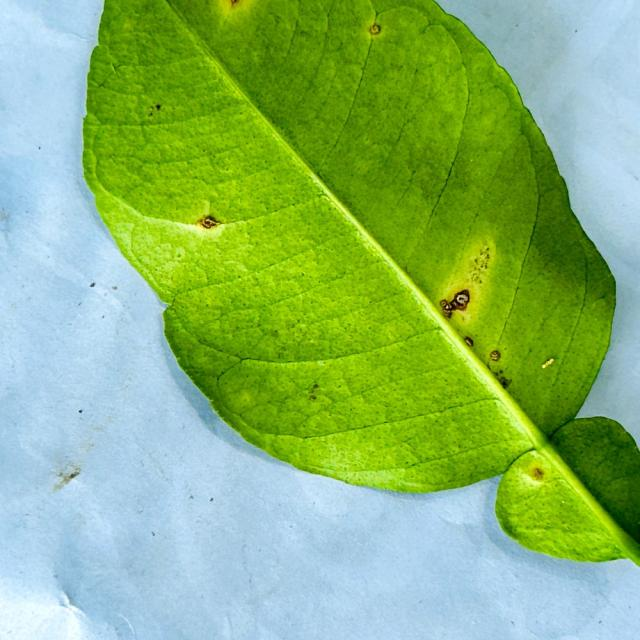Anthracnose: (435, 230, 498, 334), (215, 350, 259, 390), (184, 212, 232, 248), (204, 0, 267, 27), (517, 460, 550, 489)
Lemon: (81, 0, 639, 570)
